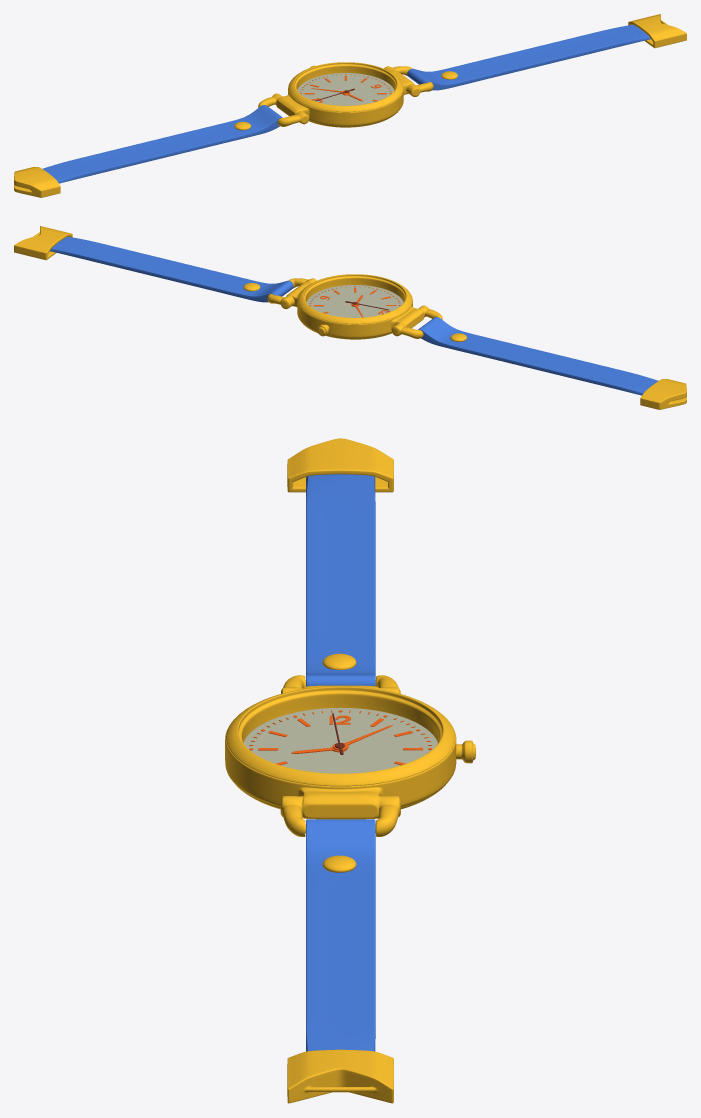
The model's file is watch.glb.
The picture shows the model from 3 angles, top to bottom: view 1: azimuth 30°, elevation 25°; view 2: azimuth 150°, elevation 25°; view 3: azimuth 270°, elevation 25°; orthographic projection. The views are drawn at different scales.
Parts seen in each view (by area): view 1: Watch_Belt_Cylinder.012, Watch_Metall_Cylinder.015, Watch_Circle_Cylinder.013, Cube; view 2: Watch_Belt_Cylinder.012, Watch_Metall_Cylinder.015, Watch_Circle_Cylinder.013, Cube; view 3: Watch_Belt_Cylinder.012, Watch_Metall_Cylinder.015, Watch_Circle_Cylinder.013, Cube.
Boxes of the visible parts, left/top/right/bottom form: Watch_Belt_Cylinder.012: left=42, top=24, right=650, bottom=183; Watch_Metall_Cylinder.015: left=258, top=62, right=433, bottom=127; Watch_Circle_Cylinder.013: left=297, top=73, right=394, bottom=105; Cube: left=14, top=14, right=686, bottom=197; Watch_Belt_Cylinder.012: left=50, top=236, right=658, bottom=395; Watch_Metall_Cylinder.015: left=267, top=274, right=442, bottom=339; Watch_Circle_Cylinder.013: left=306, top=285, right=403, bottom=317; Cube: left=14, top=226, right=686, bottom=409; Watch_Belt_Cylinder.012: left=306, top=474, right=375, bottom=1051; Watch_Metall_Cylinder.015: left=225, top=675, right=456, bottom=836; Watch_Circle_Cylinder.013: left=243, top=707, right=437, bottom=773; Cube: left=287, top=438, right=393, bottom=1103.
Bounding box in the file's own units: 65.66 × 2.56 × 10.81.
